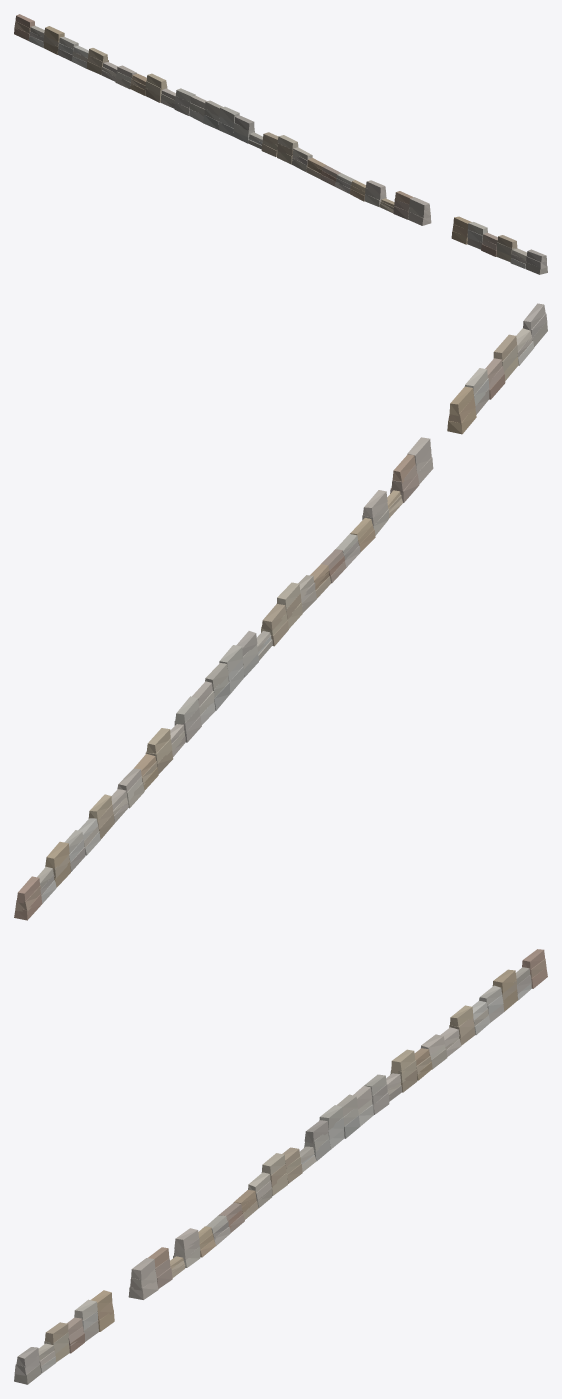
The model's file is farm_0_-4_mid.glb.
3 renders of one model, top to bottom at view 1: azimuth 30°, elevation 25°; view 2: azimuth 150°, elevation 25°; view 3: azimuth 330°, elevation 25°, orthographic. The views are drawn at different scales.
Visible parts, largest first — view 1: geometry_0; view 2: geometry_0; view 3: geometry_0.
Part boxes in pixels (x1=…): geometry_0: x1=14, y1=14, x2=547, y2=274; geometry_0: x1=14, y1=303, x2=547, y2=920; geometry_0: x1=14, y1=949, x2=547, y2=1384.
Bounding box in the file's own units: 6.75 × 5.68 × 56.45.
